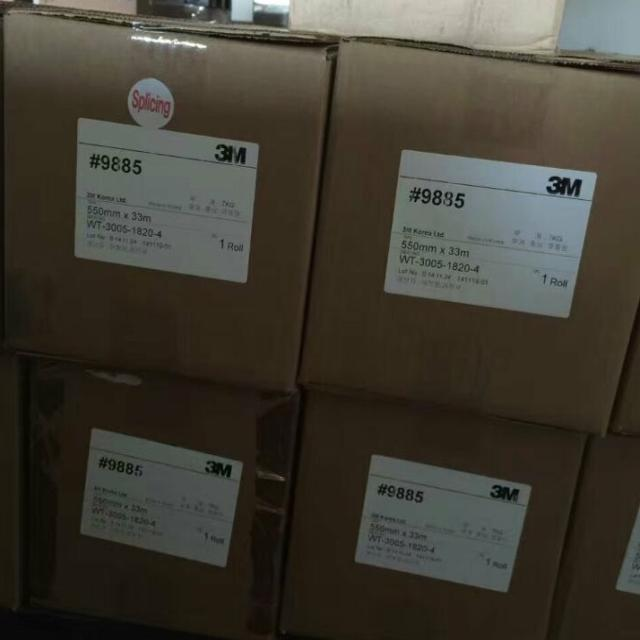box: (301, 34, 640, 438), (0, 0, 344, 394), (22, 356, 297, 640), (276, 390, 586, 640), (549, 433, 640, 640), (286, 0, 565, 51), (609, 324, 640, 436), (39, 0, 136, 14)
